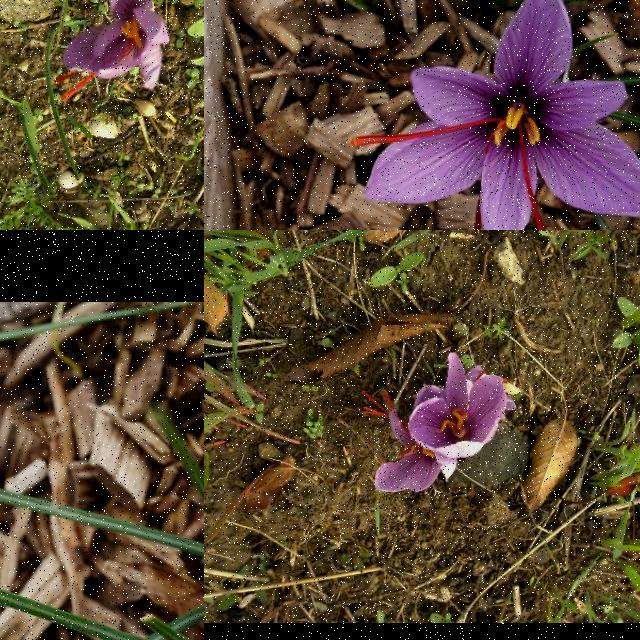flower: (351, 0, 640, 230), (54, 0, 170, 102)
overlap: (363, 352, 509, 493)
